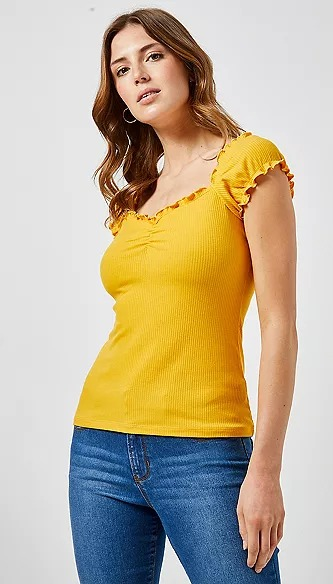C_jeans: (72, 428, 280, 584)
C_short blouse: (71, 133, 299, 440)
